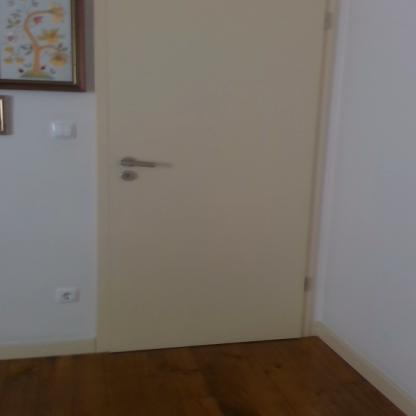door: (105, 0, 308, 341)
hinged: (322, 8, 333, 31), (301, 274, 313, 292)
lever: (118, 156, 162, 172)
